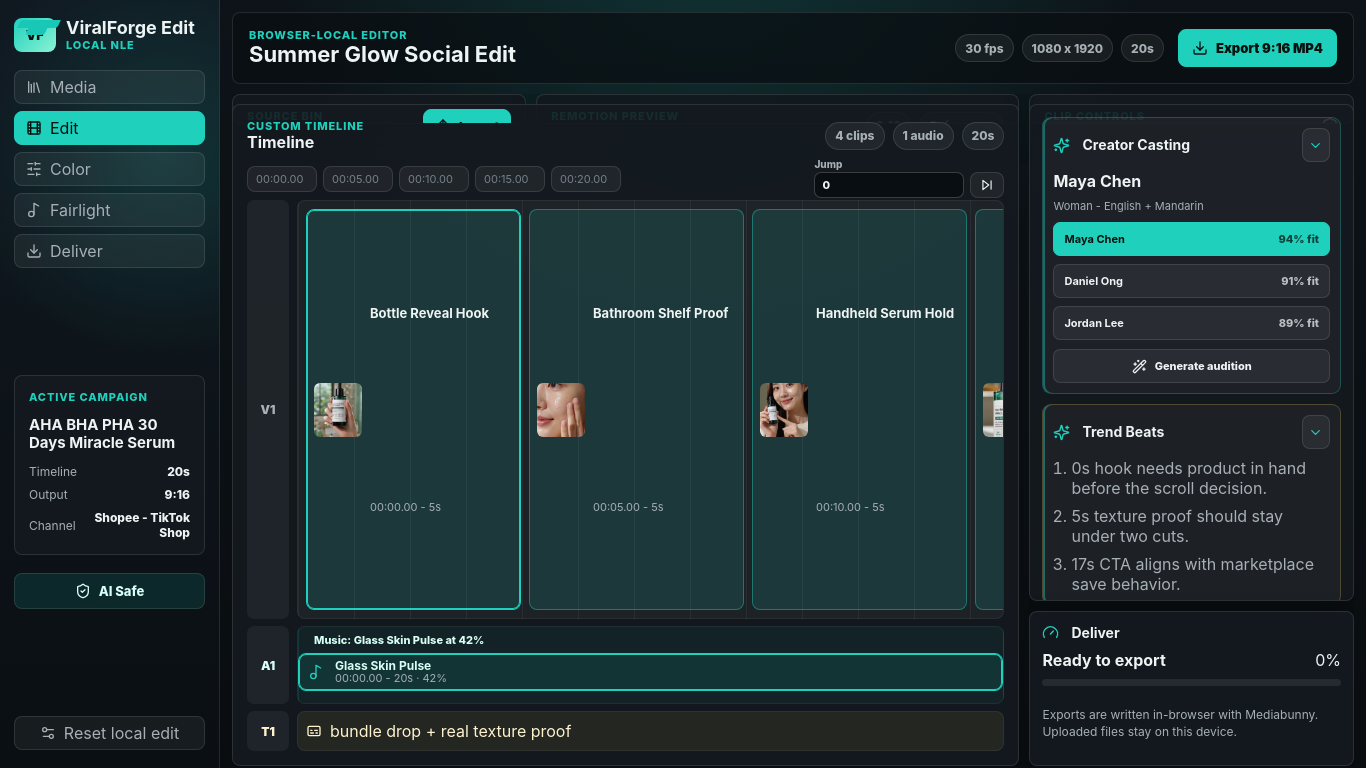
Test: right rail collapsible panels › collapses every local editor assistant block independently
The width and height of the screenshot is (1366, 768).
Expected: the button "Generate audition" is shown, [1053, 349, 1330, 383]
Step 1. Click the button named "collapse creator casting" → [1316, 145], box [1302, 128, 1330, 162]
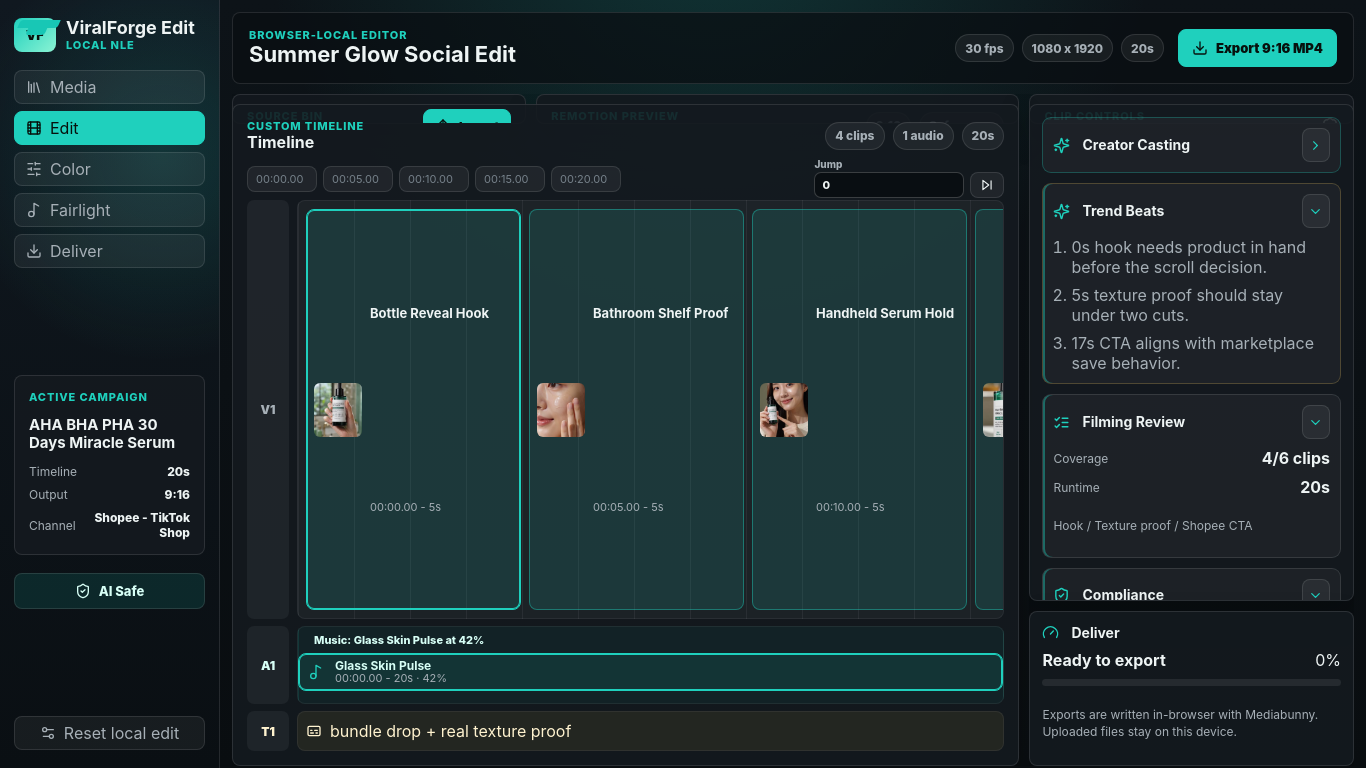
Expected: the list item "0s hook needs product in hand before the scroll decision." is shown, [1071, 237, 1330, 277]
Now the button "Generate audition" is gone
Step 2. Click the button named "collapse trend beats" → [1316, 211], box [1302, 194, 1330, 228]
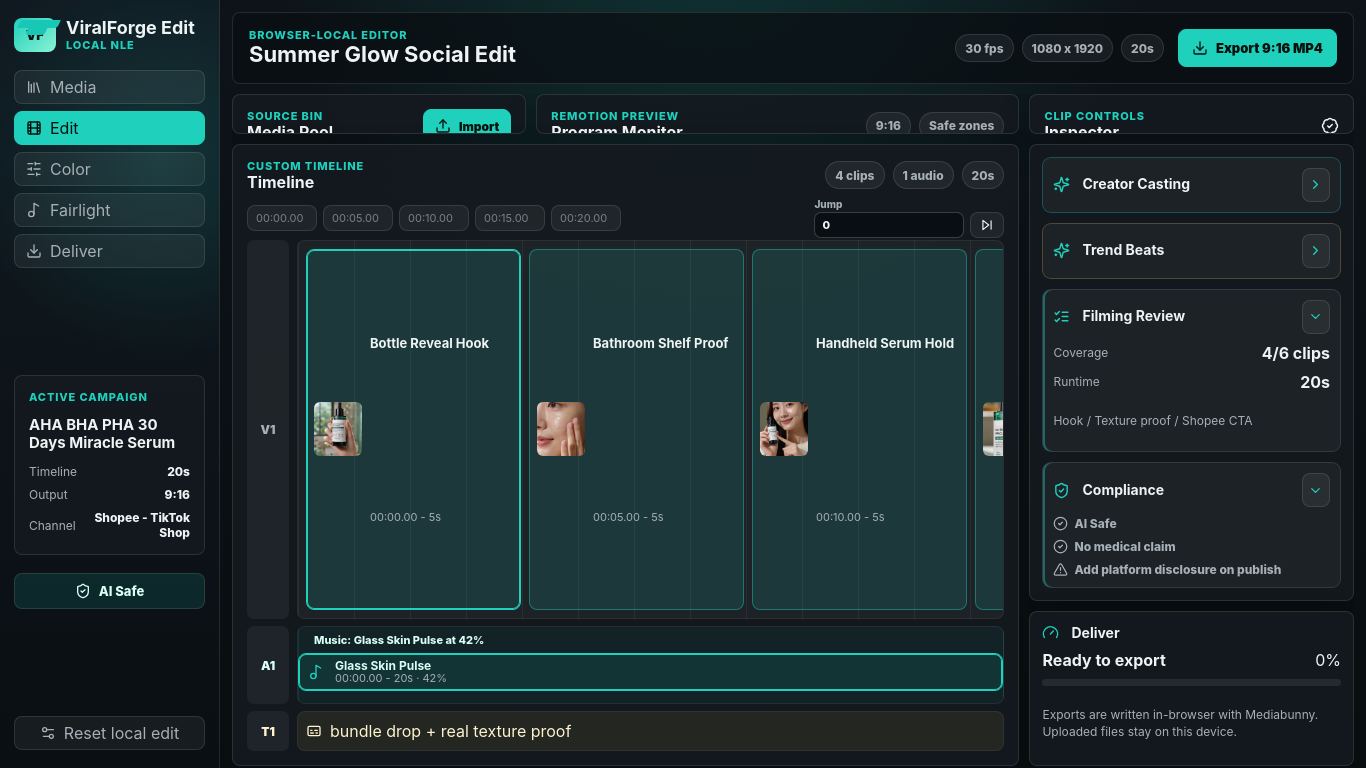
Now the text "Coverage" is shown, box [1053, 345, 1108, 360]
Now the list item "0s hook needs product" is gone
Step 3. Click the button named "collapse filming review" → [1316, 317], box [1302, 300, 1330, 334]
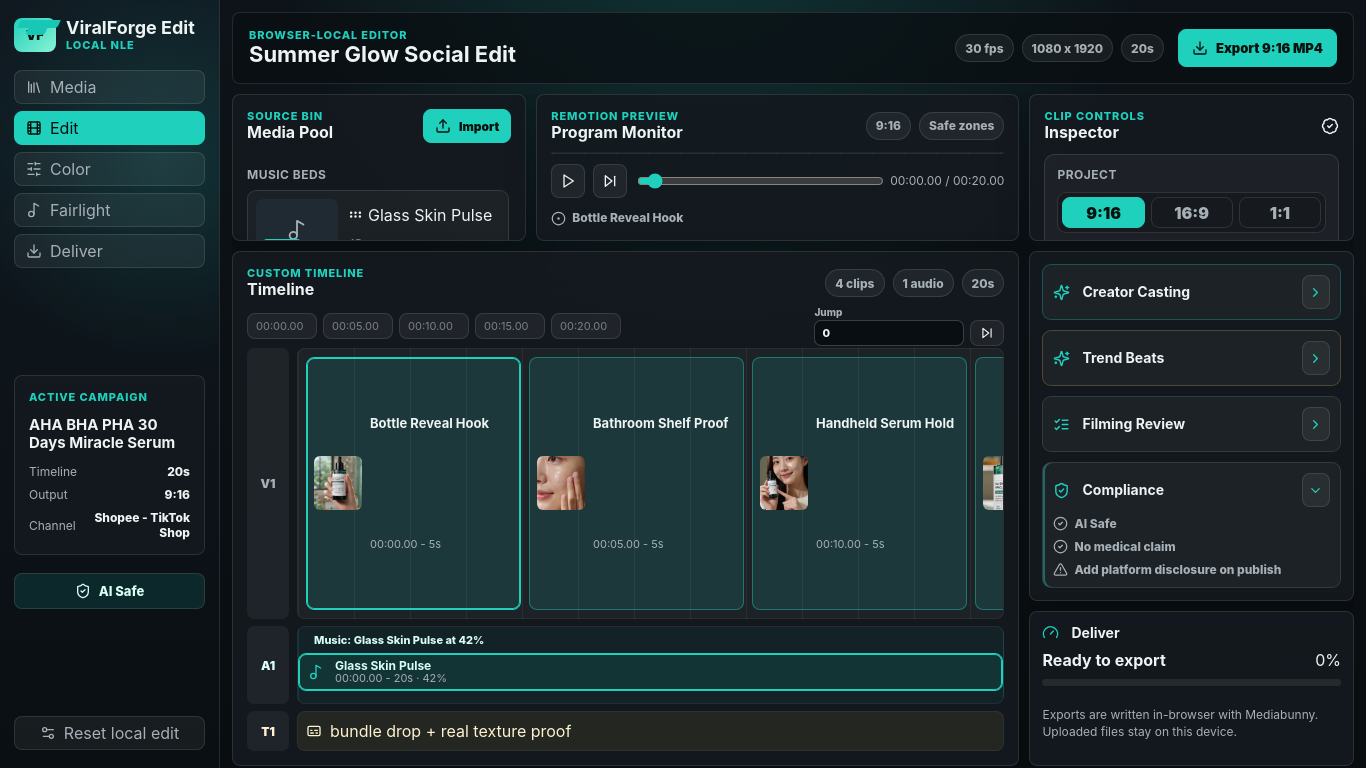
Now the text "No medical claim" is shown, box [1053, 539, 1176, 554]
Now the text "Coverage" is gone
Step 4. Click the button named "collapse compliance" → [1316, 490], box [1302, 473, 1330, 507]
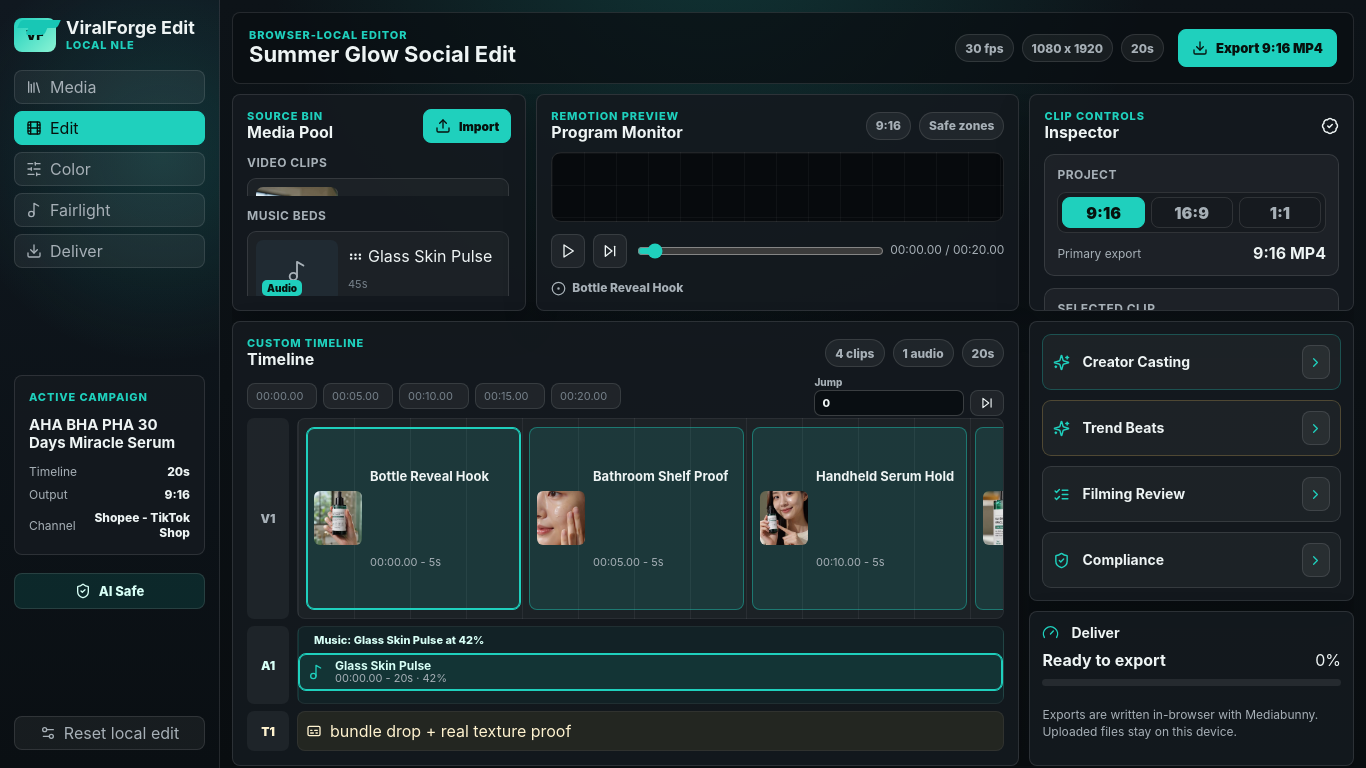
Now the text "No medical claim" is gone
Step 5. Click the button named "expand creator casting" → [1316, 362], box [1302, 345, 1330, 379]
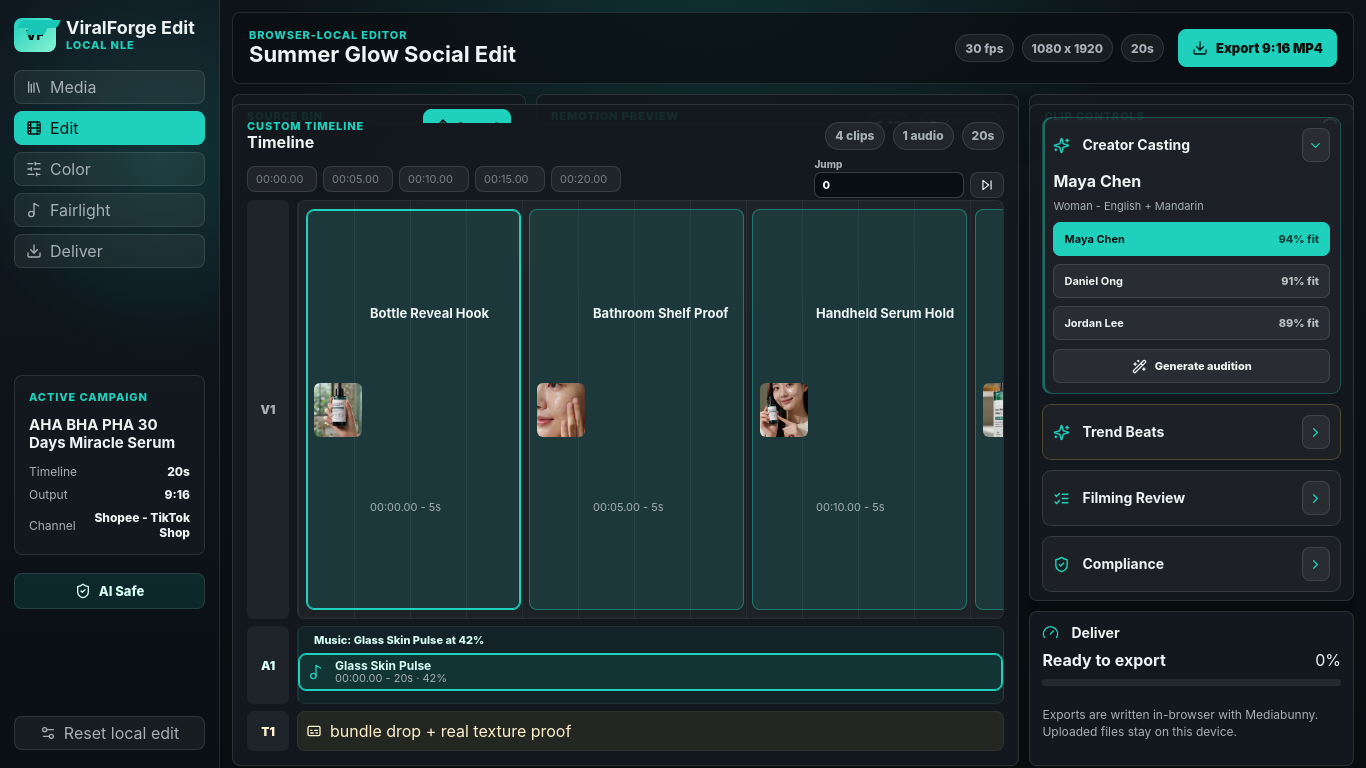
Expected: the list item "0s hook needs product" is not shown
Now the button "Generate audition" is shown, box [1053, 349, 1330, 383]
